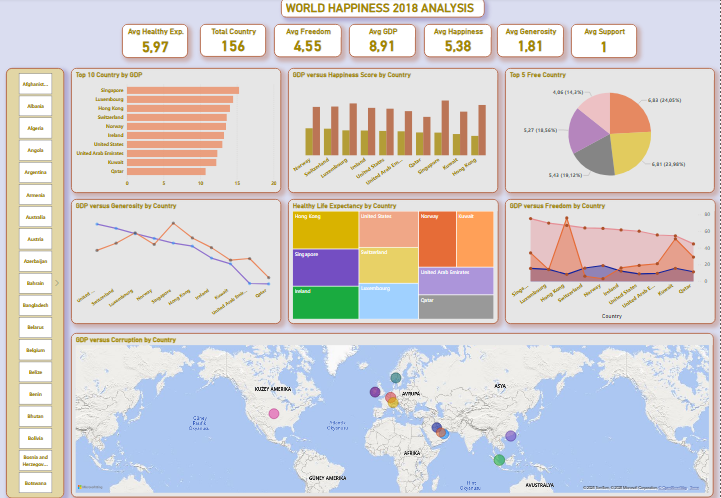

This screenshot's page, from the dashboard's own definition file:
{"tool":"powerbi","page":{"name":"2018","canvas":[1850,1280],"ordinal":1},"visuals":[{"type":"textbox","title":"WORLD HAPPINESS 2018 ANALYSIS","box":[725,0,521.2,50],"z":0},{"type":"card","title":"Avg GDP","fields":{"Values":["Avg(2018.GDP adj)"]},"box":[897.6,65.9,170.7,85.4],"z":1000},{"type":"card","title":"Total Country ","fields":{"Values":["Count(2018.Country )"]},"box":[517.8,66.7,168.9,84.4],"z":2000},{"type":"card","title":"Avg Freedom","fields":{"Values":["Avg(2018.Freedom adj)"]},"box":[707.3,65.9,173.2,85.4],"z":3000},{"type":"card","title":"Avg Happiness","fields":{"Values":["Avg(2018.Happines adj)"]},"box":[1090.2,65.9,173.2,85.4],"z":4000},{"type":"card","title":"Avg Generosity","fields":{"Values":["Avg(2018.Generosity adj)"]},"box":[1278,65.9,170.7,85.4],"z":5000},{"type":"slicer","fields":{"Values":["2018.Country "]},"box":[19.6,178.4,149,1102],"z":6000},{"type":"barChart","title":"Top 10 Country by GDP ","fields":{"Category":["2019.Country"],"Y":["Sum(2018.GDP adj)"]},"box":[186.9,178.7,537.7,319.7],"z":7000},{"type":"lineClusteredColumnComboChart","title":"GDP versus Happiness Score by Country","fields":{"Category":["2019.Country"],"Y":["Avg(2018.Happines adj)","Sum(2018.GDP adj)"]},"box":[742.6,178.7,537.7,319.7],"z":8000},{"type":"lineChart","title":"GDP versus Generosity by Country","fields":{"Category":["2019.Country"],"Y":["Sum(2018.Generosity)"],"Y2":["Sum(2018.GDP adj)"]},"box":[186.9,514.8,537.7,319.7],"z":9000},{"type":"treemap","title":"Healthy Life Expectancy by Country","fields":{"Group":["2019.Country"],"Values":["Sum(2018.Healty Exp.Adj)"]},"box":[741.5,514.6,539,319.5],"z":10000},{"type":"pieChart","title":"Top 5 Free Country","fields":{"Category":["2019.Country"],"Y":["Sum(2018.Freedom adj)"]},"box":[1297.6,178,536.6,319.5],"z":11000},{"type":"areaChart","title":"GDP versus Freedom by Country","fields":{"Category":["2019.Country"],"Y":["Sum(2018.GDP adj)","Sum(2018.Freedom adj)"],"Y2":["Avg(2018.Happiness Rank )"]},"box":[1297.6,514.6,539,319.5],"z":12000},{"type":"map","title":"GDP versus Corruption by Country","fields":{"Category":["2019.Country"],"Series":["2018.Perceptions of corruption"],"Size":["Sum(2018.GDP adj)"]},"box":[187.9,857.6,1645.5,421.2],"z":13000},{"type":"card","title":"Avg Support","fields":{"Values":["Avg(2018.Support adj)"]},"box":[1466.7,66.7,168.9,86.7],"z":14000},{"type":"card","title":"Avg Healthy Exp.","fields":{"Values":["Avg(2018.Healty Exp.Adj)"]},"box":[317.8,66.7,168.9,86.7],"z":15000}]}

Visuals, with their boxes in screenshot pixels (x1, y1, x2, y2), scaled from the page's 1850x1280 canvas onto the 721x498 screenshot:
"WORLD HAPPINESS 2018 ANALYSIS" textbox: left=283, top=0, right=486, bottom=19
"Avg GDP" card: left=350, top=26, right=416, bottom=59
"Total Country " card: left=202, top=26, right=268, bottom=59
"Avg Freedom" card: left=276, top=26, right=343, bottom=59
"Avg Happiness" card: left=425, top=26, right=492, bottom=59
"Avg Generosity" card: left=498, top=26, right=565, bottom=59
slicer - 2018.Country : left=8, top=69, right=66, bottom=497
"Top 10 Country by GDP " barChart: left=73, top=70, right=282, bottom=194
"GDP versus Happiness Score by Country" lineClusteredColumnComboChart: left=289, top=70, right=499, bottom=194
"GDP versus Generosity by Country" lineChart: left=73, top=200, right=282, bottom=325
"Healthy Life Expectancy by Country" treemap: left=289, top=200, right=499, bottom=325
"Top 5 Free Country" pieChart: left=506, top=69, right=715, bottom=194
"GDP versus Freedom by Country" areaChart: left=506, top=200, right=716, bottom=325
"GDP versus Corruption by Country" map: left=73, top=334, right=715, bottom=497
"Avg Support" card: left=572, top=26, right=637, bottom=60
"Avg Healthy Exp." card: left=124, top=26, right=190, bottom=60
